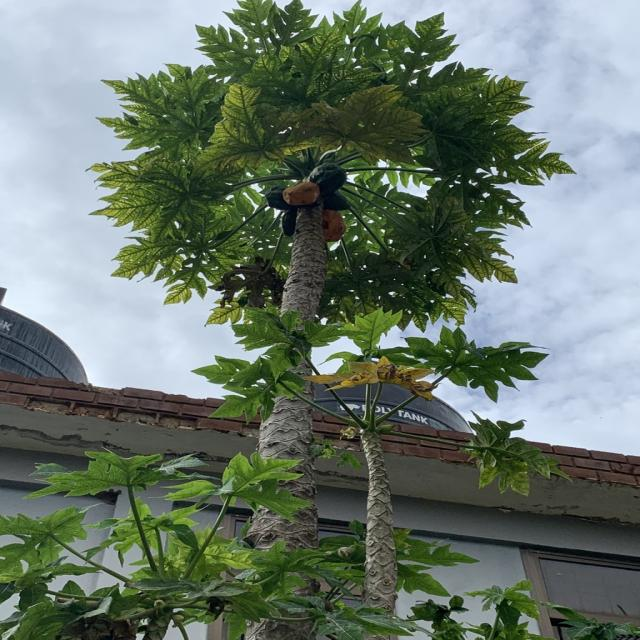Papaya-Tree: (65, 16, 567, 490)
